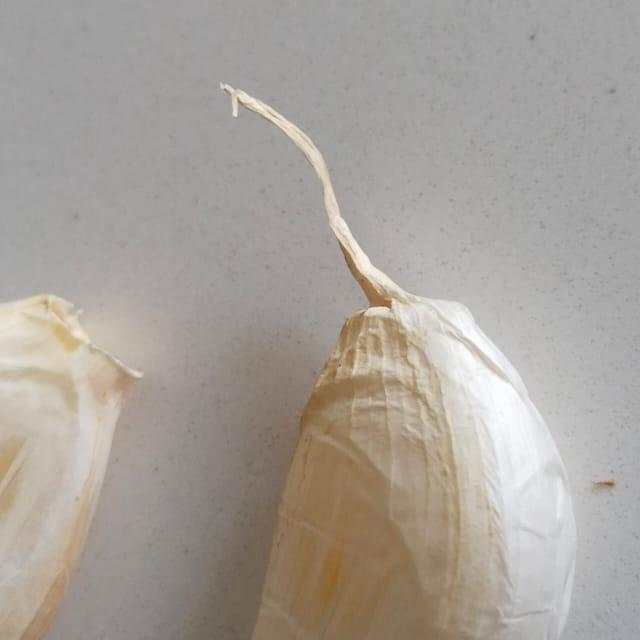garlic: (161, 245, 640, 640), (0, 255, 188, 640)
